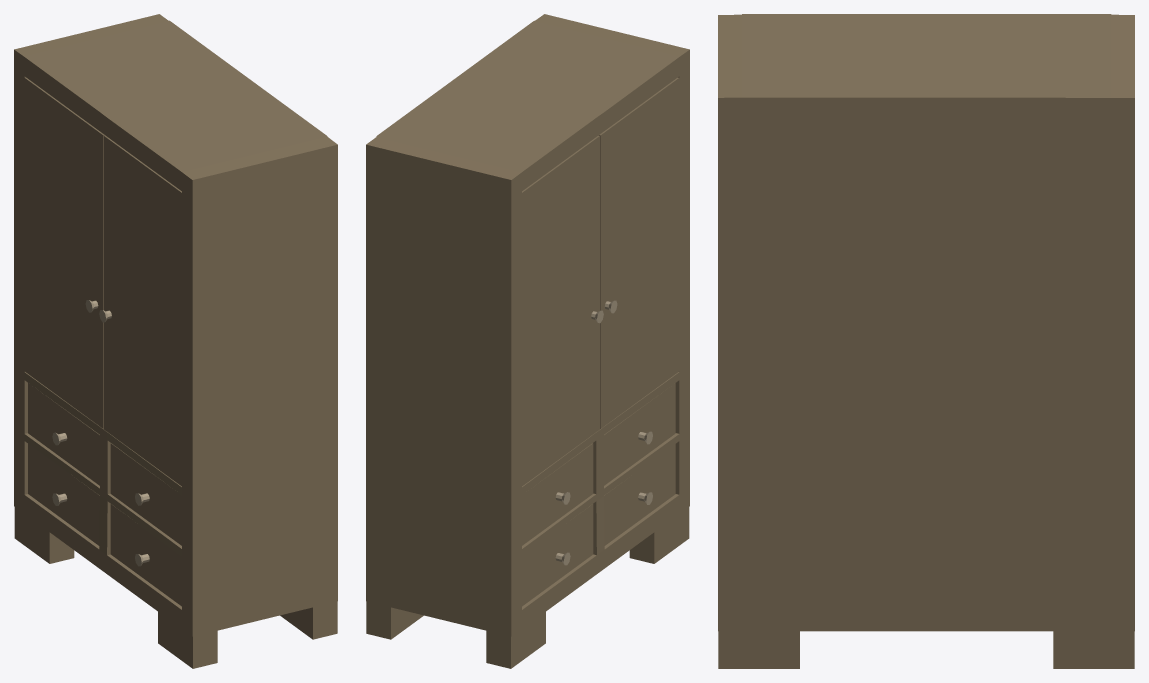
The model's file is bedRoom_closet.fbx.
3 renders of one model, left to right at view 1: azimuth 30°, elevation 25°; view 2: azimuth 150°, elevation 25°; view 3: azimuth 270°, elevation 25°, orthographic. The views are drawn at different scales.
Parts seen in each view (by area): view 1: Cube, door_left, door_right, Plane, drawer_front.001, drawer_front, drawer_front.002, drawer_front.003, Cube.011, Cube.007, Cube.010; view 2: Cube, door_right, door_left, Plane, drawer_front.001, drawer_front, drawer_front.002, drawer_front.003, Cube.007, Cube.011, Cube.009; view 3: Cube, Plane, Cube.009, Cube.010.
Part boxes in pixels (x1,y1,x2,y2): Cube: [14, 14, 337, 636]; door_left: [24, 77, 104, 428]; door_right: [103, 135, 181, 486]; Plane: [24, 20, 327, 171]; drawer_front.001: [110, 443, 181, 545]; drawer_front: [28, 383, 99, 485]; drawer_front.002: [110, 504, 181, 606]; drawer_front.003: [28, 444, 99, 545]; Cube.011: [158, 612, 217, 668]; Cube.007: [14, 507, 74, 563]; Cube.010: [280, 601, 337, 639]; Cube: [366, 14, 689, 636]; door_right: [598, 77, 679, 428]; door_left: [522, 135, 599, 486]; Plane: [376, 20, 679, 171]; drawer_front.001: [604, 383, 675, 485]; drawer_front: [522, 443, 593, 545]; drawer_front.002: [604, 444, 675, 545]; drawer_front.003: [522, 504, 593, 606]; Cube.007: [486, 612, 545, 668]; Cube.011: [629, 507, 689, 563]; Cube.009: [366, 601, 423, 639]; Cube: [718, 14, 1134, 631]; Plane: [742, 14, 1111, 96]; Cube.009: [1053, 631, 1134, 668]; Cube.010: [718, 631, 799, 668].
Size of the model in its own units: 83.84 by 257 by 170.
